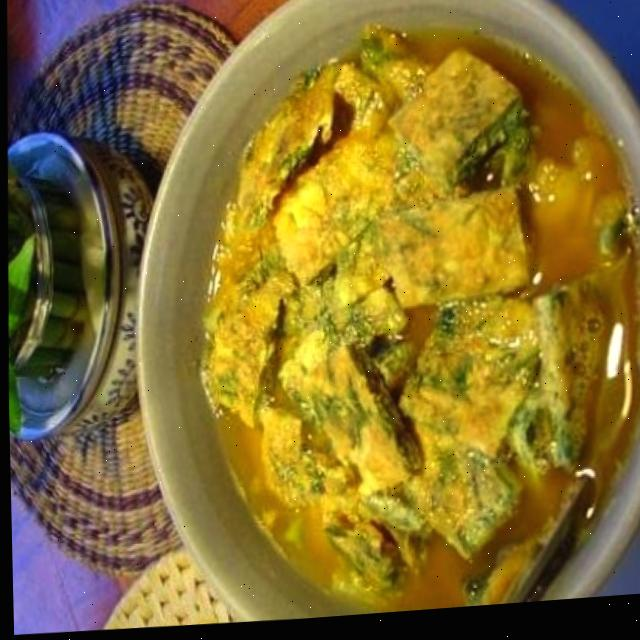汤锅炖物: (146, 0, 640, 631)
